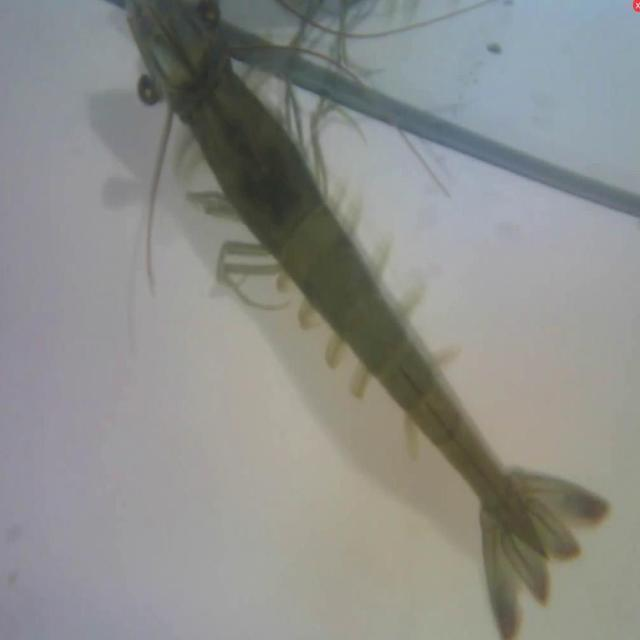shrimp: (125, 0, 606, 635)
